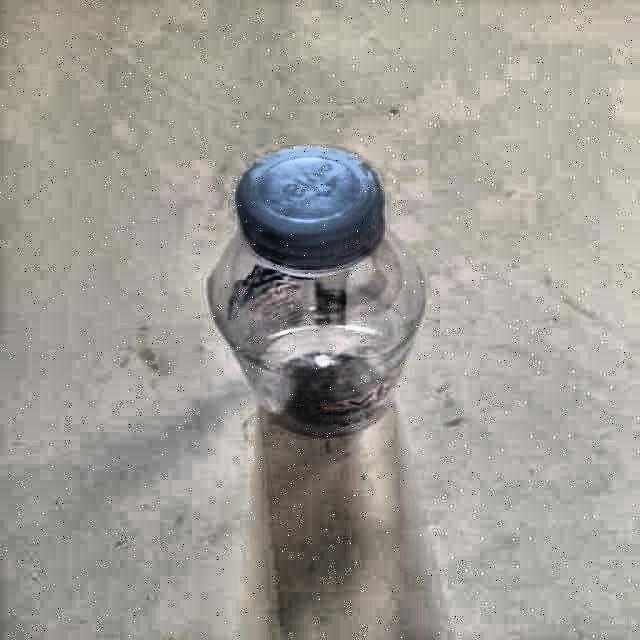plastic: (209, 148, 424, 434)
